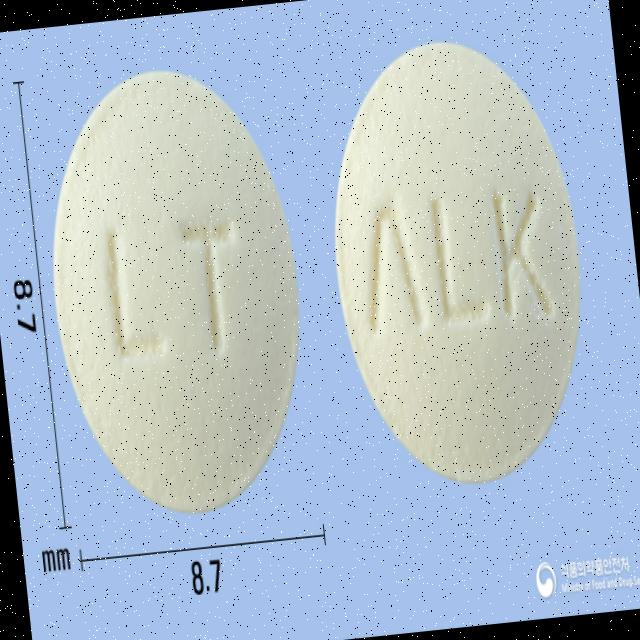Levotam: (313, 24, 602, 496), (33, 55, 321, 528)
